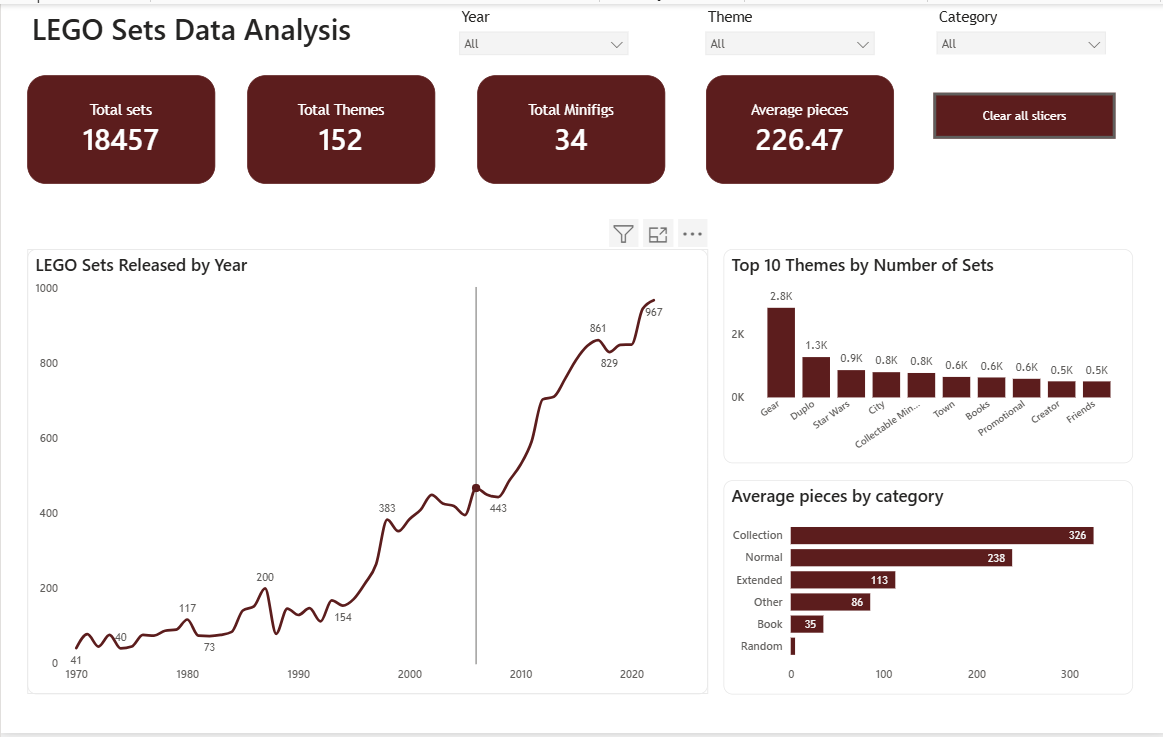

Layout of this report page (visuals, bound fields, positions):
{"tool":"powerbi","page":{"name":"Product Analysis ","canvas":[1280,800],"ordinal":0},"visuals":[{"type":"cardVisual","fields":{"Data":["Measures (2).Total sets"]},"box":[29.5,77.7,206.4,119.3],"z":0},{"type":"textbox","box":[29.5,0,366,67],"z":1000},{"type":"cardVisual","fields":{"Data":["Measures (2).Total Themes"]},"box":[270.8,77.7,206.4,119.3],"z":2000},{"type":"cardVisual","fields":{"Data":["Measures (2).Total Minifigs"]},"box":[522.8,77.7,206.4,119.3],"z":3000},{"type":"cardVisual","fields":{"Data":["Measures (2).Average pieces"]},"box":[773.5,77.7,206.4,119.3],"z":4000},{"type":"lineChart","title":"LEGO Sets Released by Year","fields":{"Y":["Measures (2).Total sets"],"Category":["lego_sets.year"]},"box":[29,268.5,747.6,489.2],"z":5000},{"type":"slicer","fields":{"Values":["lego_sets.year"]},"box":[492.2,0,206,64.5],"z":6000},{"type":"slicer","fields":{"Values":["lego_sets.category"]},"box":[1017.4,0,206,55],"z":7000},{"type":"slicer","fields":{"Values":["lego_sets.theme"]},"box":[762.7,0,206,67.6],"z":8000},{"type":"columnChart","title":"Top 10 Themes by Number of Sets","fields":{"Y":["Measures (2).Total sets"],"Category":["lego_sets.theme"]},"box":[792.6,268.5,450,235.2],"z":9000},{"type":"barChart","fields":{"Y":["Measures (2).Average pieces"],"Category":["lego_sets.category"]},"box":[792.6,522.6,450,235.2],"z":10000},{"type":"actionButton","box":[1023.7,97.5,199.7,50.3],"z":11000}]}

Visuals, with their boxes in screenshot pixels (x1, y1, x2, y2), scaled from the page's 1280x800 canvas onto the 1163x737 screenshot:
cardVisual - Measures (2).Total sets: {"left": 27, "top": 72, "right": 214, "bottom": 181}
textbox: {"left": 27, "top": 0, "right": 359, "bottom": 62}
cardVisual - Measures (2).Total Themes: {"left": 246, "top": 72, "right": 434, "bottom": 181}
cardVisual - Measures (2).Total Minifigs: {"left": 475, "top": 72, "right": 663, "bottom": 181}
cardVisual - Measures (2).Average pieces: {"left": 703, "top": 72, "right": 890, "bottom": 181}
"LEGO Sets Released by Year" lineChart: {"left": 26, "top": 247, "right": 706, "bottom": 698}
slicer - lego_sets.year: {"left": 447, "top": 0, "right": 634, "bottom": 59}
slicer - lego_sets.category: {"left": 924, "top": 0, "right": 1112, "bottom": 51}
slicer - lego_sets.theme: {"left": 693, "top": 0, "right": 880, "bottom": 62}
"Top 10 Themes by Number of Sets" columnChart: {"left": 720, "top": 247, "right": 1129, "bottom": 464}
barChart - Measures (2).Average pieces x lego_sets.category: {"left": 720, "top": 481, "right": 1129, "bottom": 698}
actionButton: {"left": 930, "top": 90, "right": 1112, "bottom": 136}
